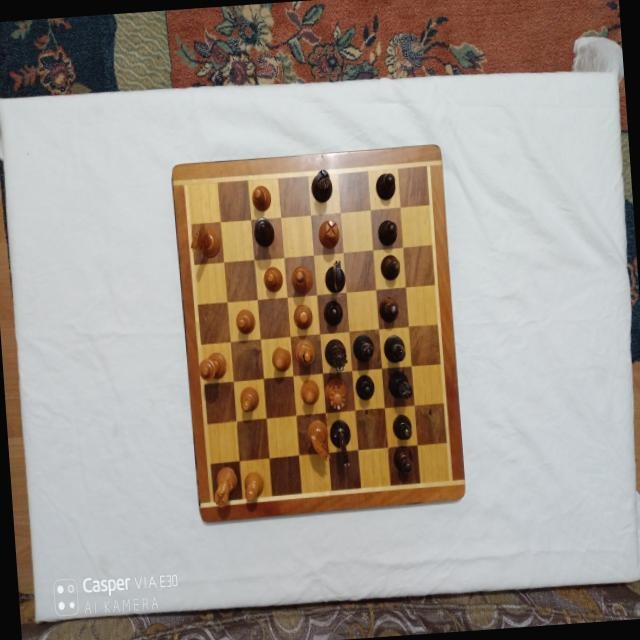black-bishop: (382, 333, 406, 364), (352, 334, 375, 362)
black-king: (253, 215, 275, 248)
black-knight: (328, 418, 352, 467), (322, 258, 345, 293)
black-pawn: (374, 170, 397, 201), (393, 445, 415, 475), (391, 412, 413, 441), (321, 298, 343, 327), (379, 254, 401, 282), (377, 218, 399, 246), (377, 295, 399, 322), (355, 372, 375, 400)
black-queen: (324, 338, 348, 372)
black-rook: (310, 168, 334, 203), (387, 368, 413, 400)
white-bishop: (290, 263, 313, 294), (294, 337, 316, 366)
white-king: (196, 351, 227, 381)
white-knight: (187, 220, 221, 259), (305, 418, 331, 462)
white-pawn: (243, 469, 265, 502), (250, 184, 272, 212), (238, 384, 260, 412), (234, 306, 256, 333), (270, 345, 292, 372), (291, 302, 313, 329), (262, 264, 282, 292), (300, 379, 320, 405)
white-queen: (323, 377, 347, 410)
white-rook: (211, 464, 238, 507), (316, 218, 340, 249)
